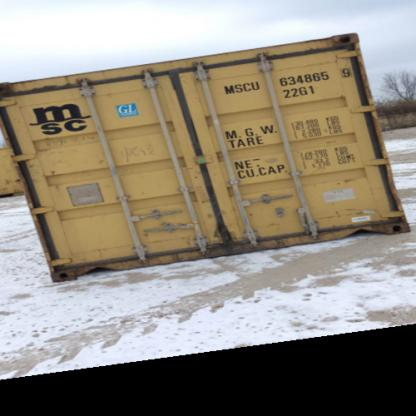Damage: (278, 28, 369, 55), (51, 261, 131, 287), (202, 207, 248, 250), (251, 226, 325, 250)
